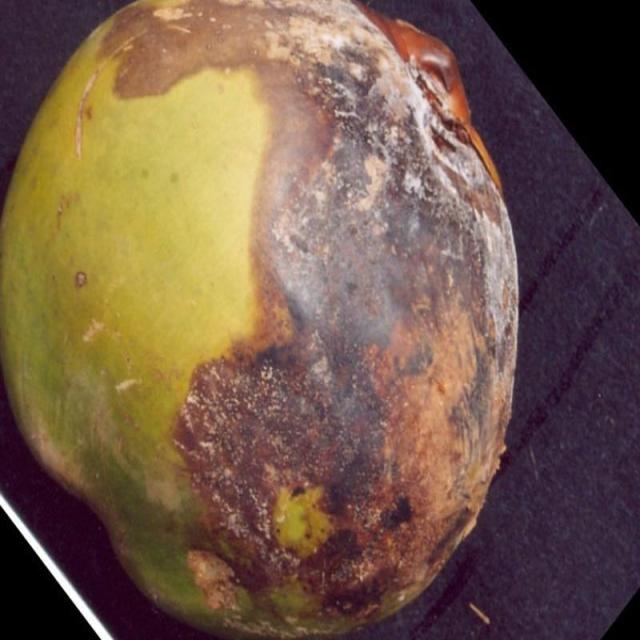damaged: (0, 0, 518, 639)
